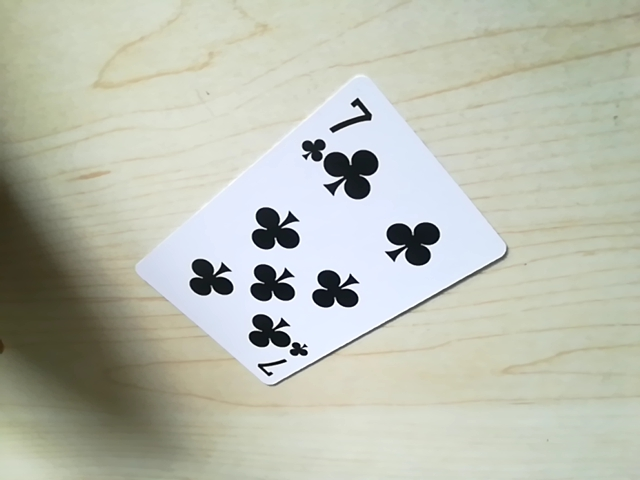mh 7: (296, 88, 374, 163), (249, 339, 309, 384)
